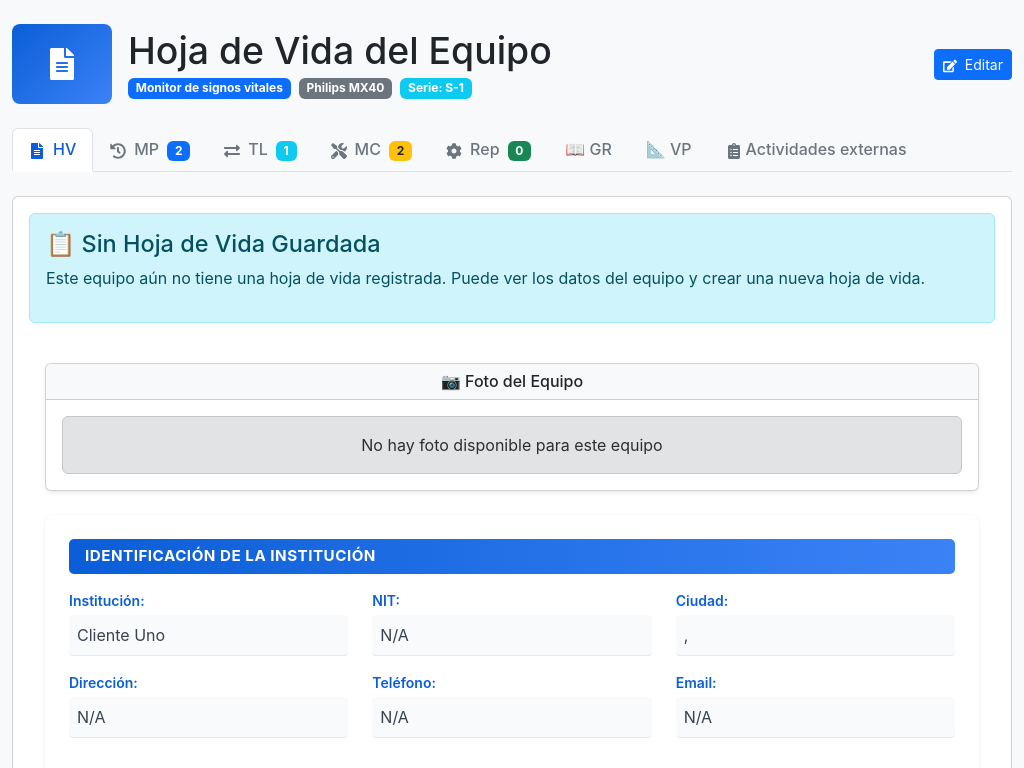
Test: HVEquipoPage - MP tab with external services › shows the date of an external service as stored (UTC calendar day), not the day before
The width and height of the screenshot is (1024, 768).
Click the tab titled "Mantenimientos Preventivos": (150, 149) [93,128,207,170]
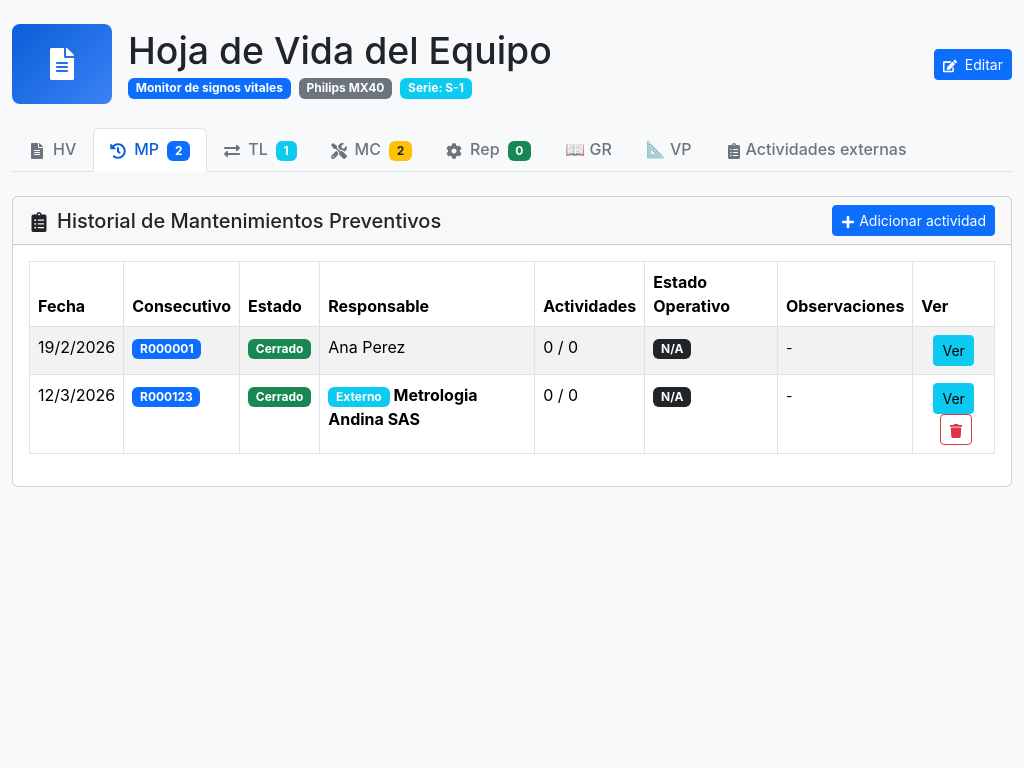
Expected: the text "12/3/2026" is shown, [30,375,124,454]
Click the tab titled "Correctivos y otros mantenimientos": (371, 149) [314,128,429,170]
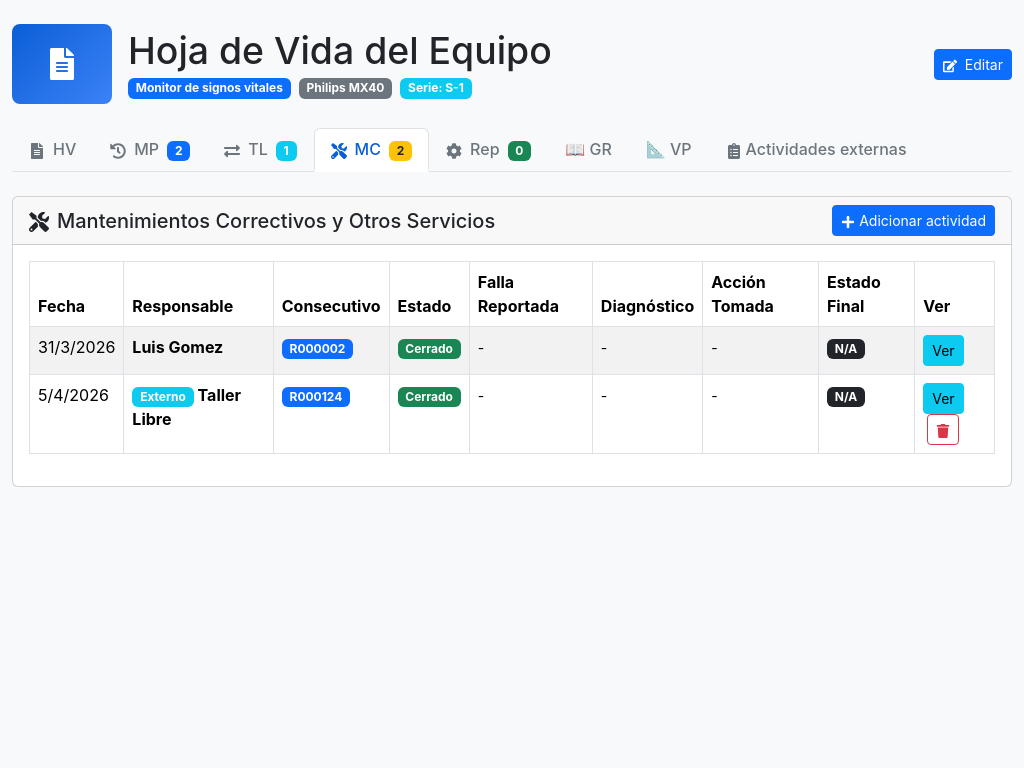
Expected: the text "5/4/2026" is shown, [30,375,124,454]
